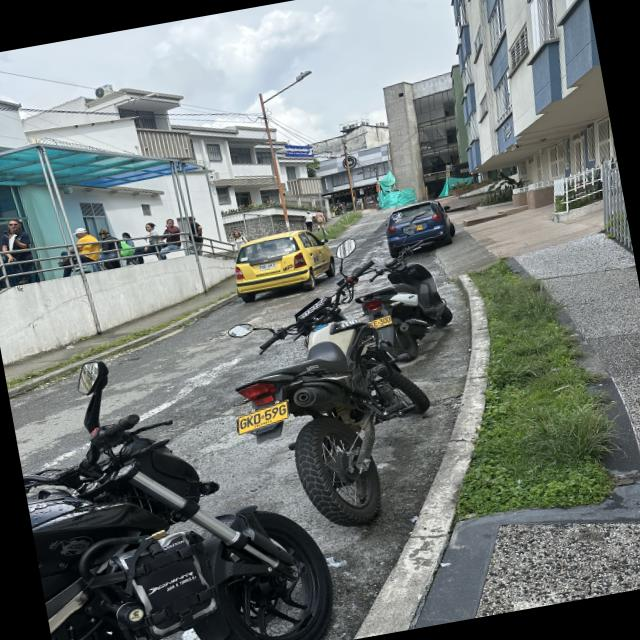number plate: (236, 400, 288, 434)
